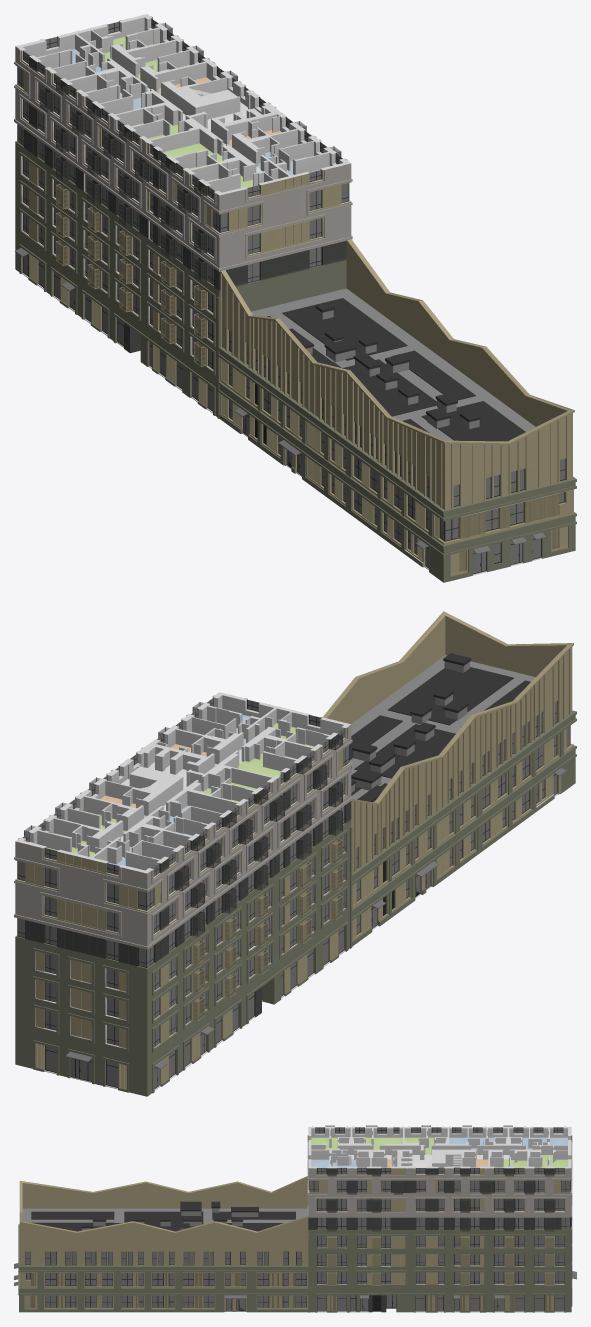
The model's file is House_Low_8fl.glb.
3 views of the same model, one above another, from view 1: azimuth 30°, elevation 25°; view 2: azimuth 150°, elevation 25°; view 3: azimuth 270°, elevation 25° (orthographic). The views are drawn at different scales.
Parts seen in each view (by area): view 1: Cube.011; view 2: Cube.011; view 3: Cube.011.
Part boxes in pixels (bbox=[...]): Cube.011: bbox=[14, 14, 576, 582]; Cube.011: bbox=[14, 611, 576, 1096]; Cube.011: bbox=[14, 1125, 576, 1312].
Size of the model in its own units: 17.06 by 24.99 by 88.6.
Materials: 2 (2 with a texture image).
